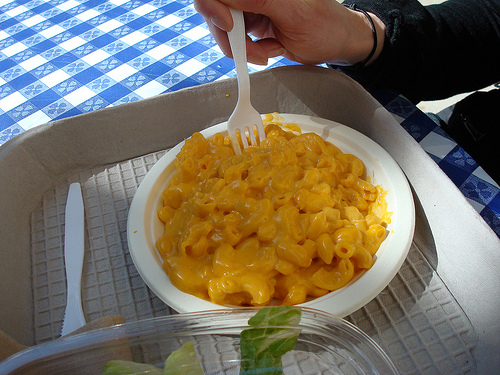macncheese: (136, 124, 388, 303)
